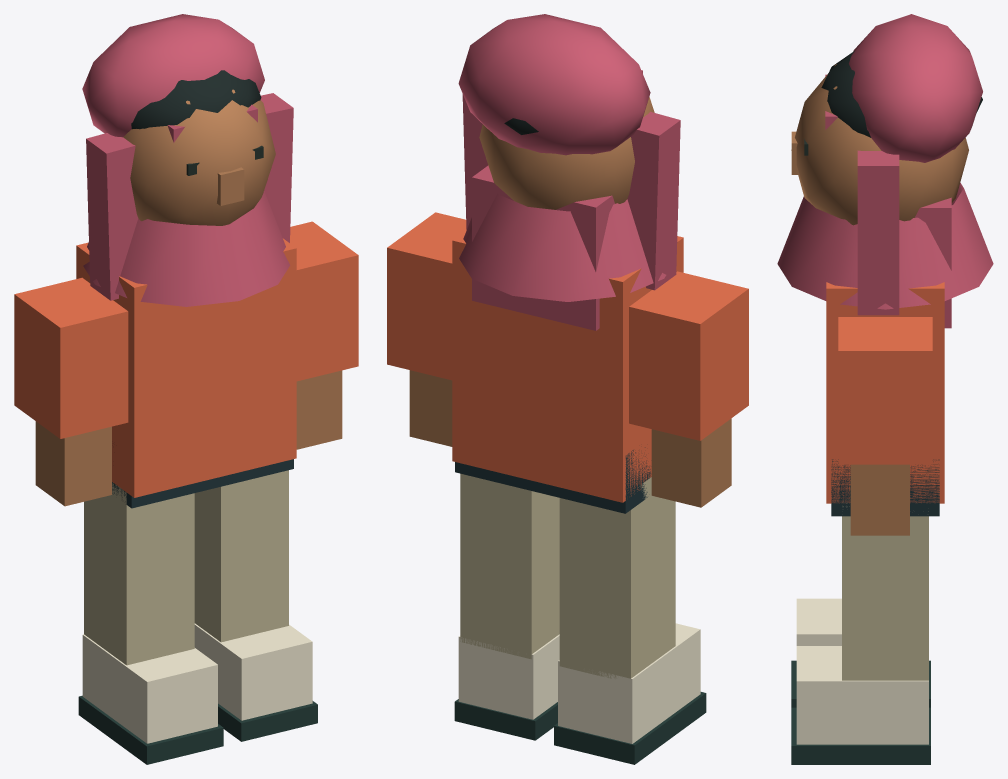
The model's file is female-tudung-instant.glb.
The picture shows the model from 3 angles, left to right: view 1: azimuth 30°, elevation 25°; view 2: azimuth 150°, elevation 25°; view 3: azimuth 270°, elevation 25°; orthographic projection. The views are drawn at different scales.
Visible parts, largest first — view 1: female-tudung-instant, avatar-tudung, tudung-neck-wrap; view 2: female-tudung-instant, avatar-tudung, tudung-neck-wrap; view 3: female-tudung-instant, avatar-tudung, tudung-neck-wrap.
Part boxes in pixels (<box>): female-tudung-instant: <box>14,70,358,764</box>; avatar-tudung: <box>82,14,293,300</box>; tudung-neck-wrap: <box>83,191,290,306</box>; female-tudung-instant: <box>387,97,748,764</box>; avatar-tudung: <box>458,14,680,330</box>; tudung-neck-wrap: <box>459,193,666,301</box>; female-tudung-instant: <box>791,51,982,764</box>; avatar-tudung: <box>825,14,982,328</box>; tudung-neck-wrap: <box>777,183,993,309</box>.
Size of the model in its own units: 1.01 by 2.2 by 0.62.
